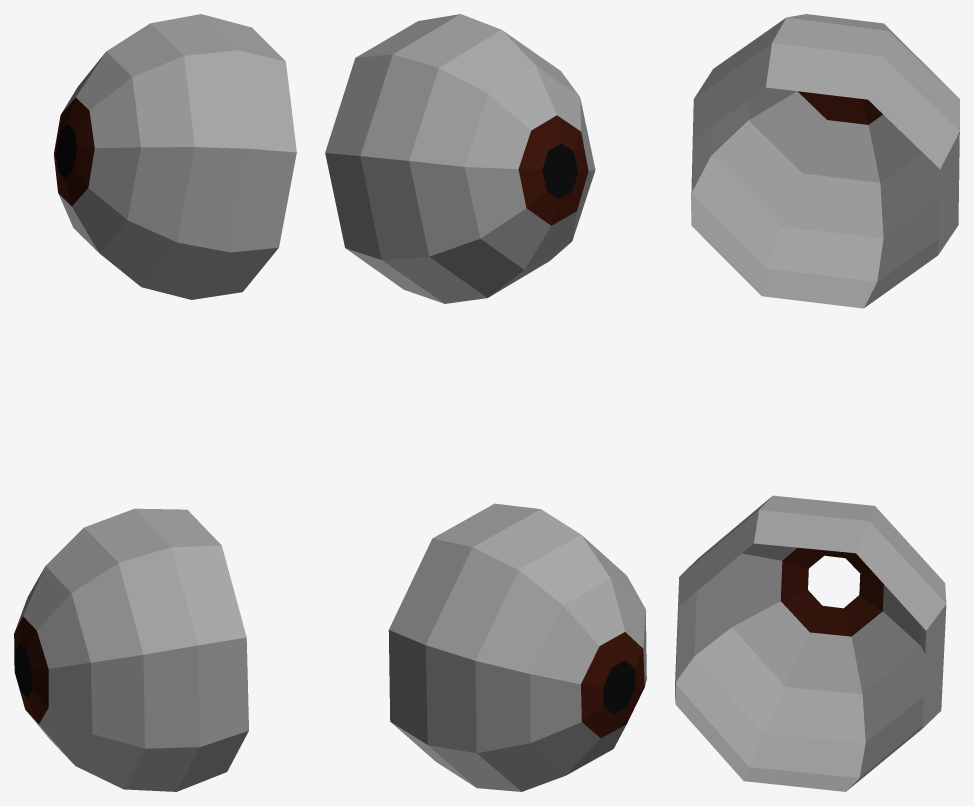
Rendered from Eyes.obj.
3 renders of one model, left to right at view 1: azimuth 30°, elevation 25°; view 2: azimuth 150°, elevation 25°; view 3: azimuth 270°, elevation 25°, orthographic. The views are drawn at different scales.
Visible parts, largest first — view 1: Eyes_Eyes_EyesWhite, Eyes_Eyes_EyesBrown, Eyes_Eyes_EyesBlack; view 2: Eyes_Eyes_EyesWhite, Eyes_Eyes_EyesBrown, Eyes_Eyes_EyesBlack; view 3: Eyes_Eyes_EyesWhite, Eyes_Eyes_EyesBrown.
Part boxes in pixels (x1=…): Eyes_Eyes_EyesWhite: x1=14, y1=14, x2=296, y2=791; Eyes_Eyes_EyesBrown: x1=14, y1=97, x2=94, y2=723; Eyes_Eyes_EyesBlack: x1=14, y1=124, x2=76, y2=698; Eyes_Eyes_EyesWhite: x1=325, y1=14, x2=646, y2=791; Eyes_Eyes_EyesBrown: x1=518, y1=115, x2=644, y2=737; Eyes_Eyes_EyesBlack: x1=542, y1=143, x2=635, y2=714; Eyes_Eyes_EyesWhite: x1=675, y1=14, x2=959, y2=791; Eyes_Eyes_EyesBrown: x1=780, y1=91, x2=883, y2=636.
Bounding box in the file's own units: 0.1002 × 0.2779 × 0.0937.
